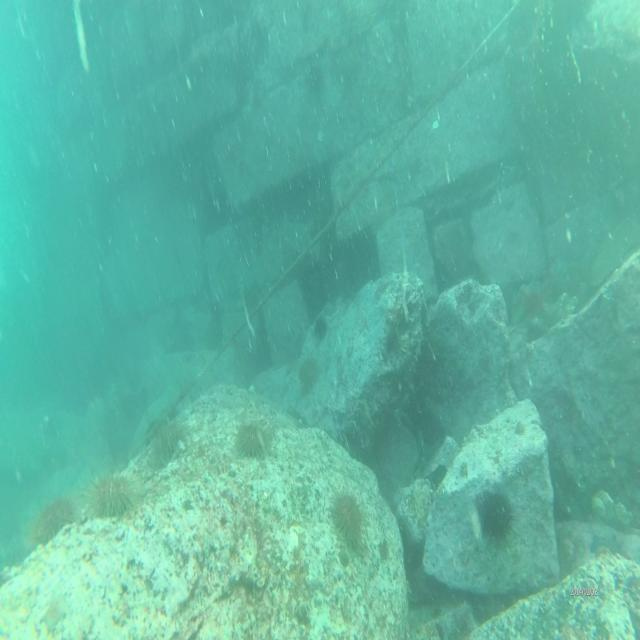echinus: (86, 471, 132, 517), (29, 496, 77, 540), (145, 417, 178, 467), (331, 492, 362, 544), (235, 423, 272, 463), (484, 498, 514, 532), (297, 359, 319, 389), (312, 318, 328, 342)
